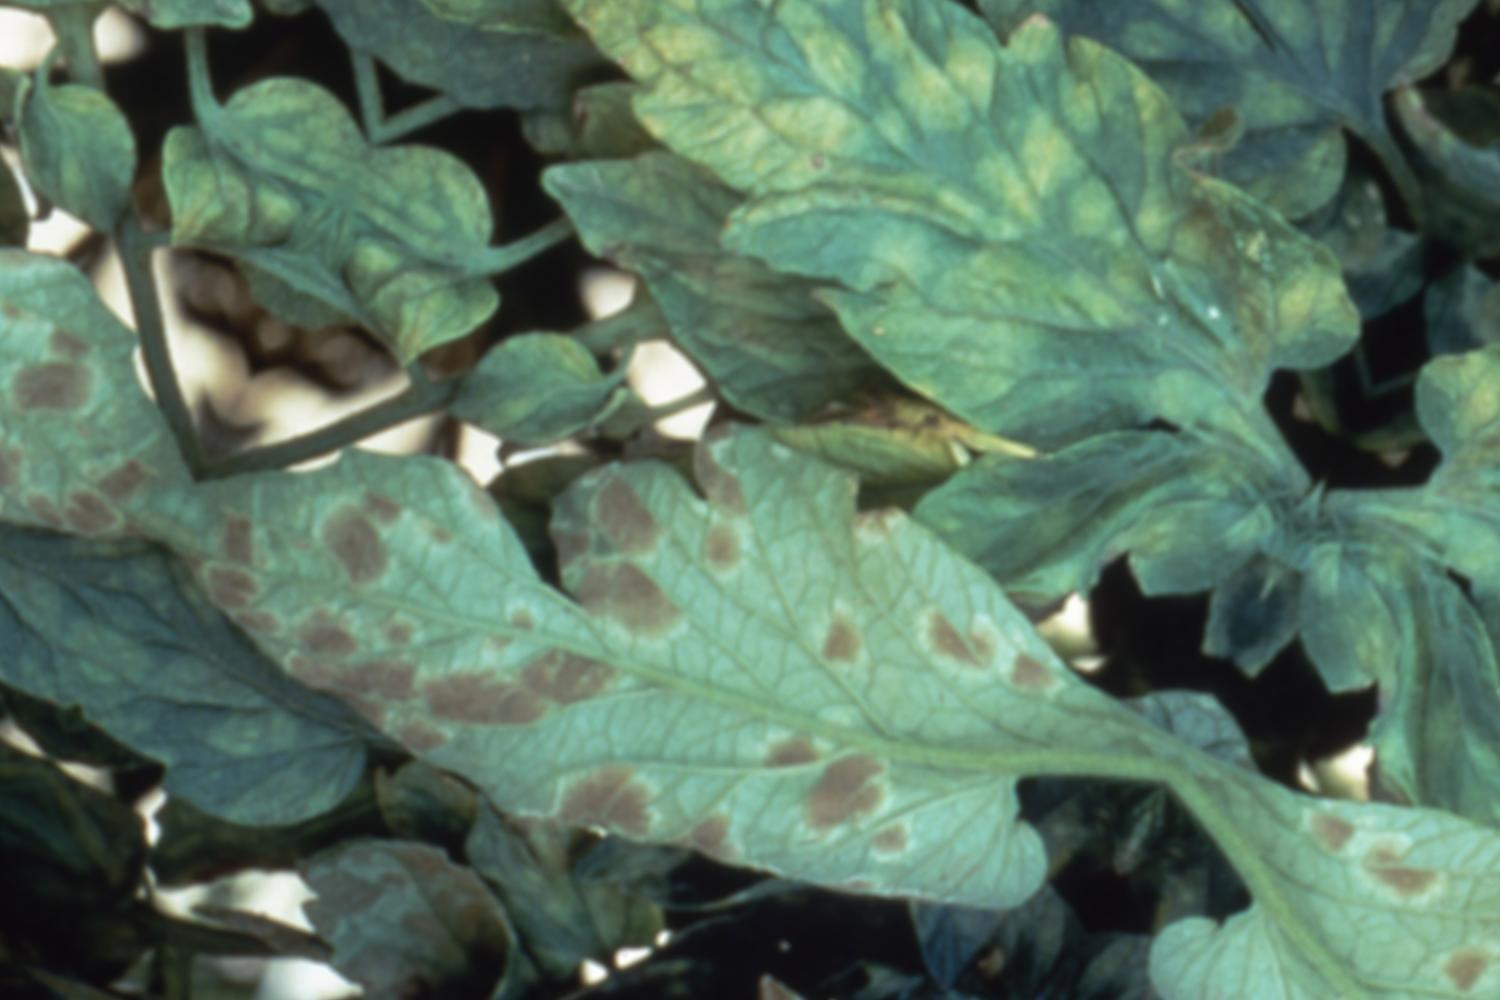Tomato mold leaf: (118, 204, 1202, 1000), (427, 0, 1426, 551), (713, 0, 1441, 259), (277, 112, 556, 414)
